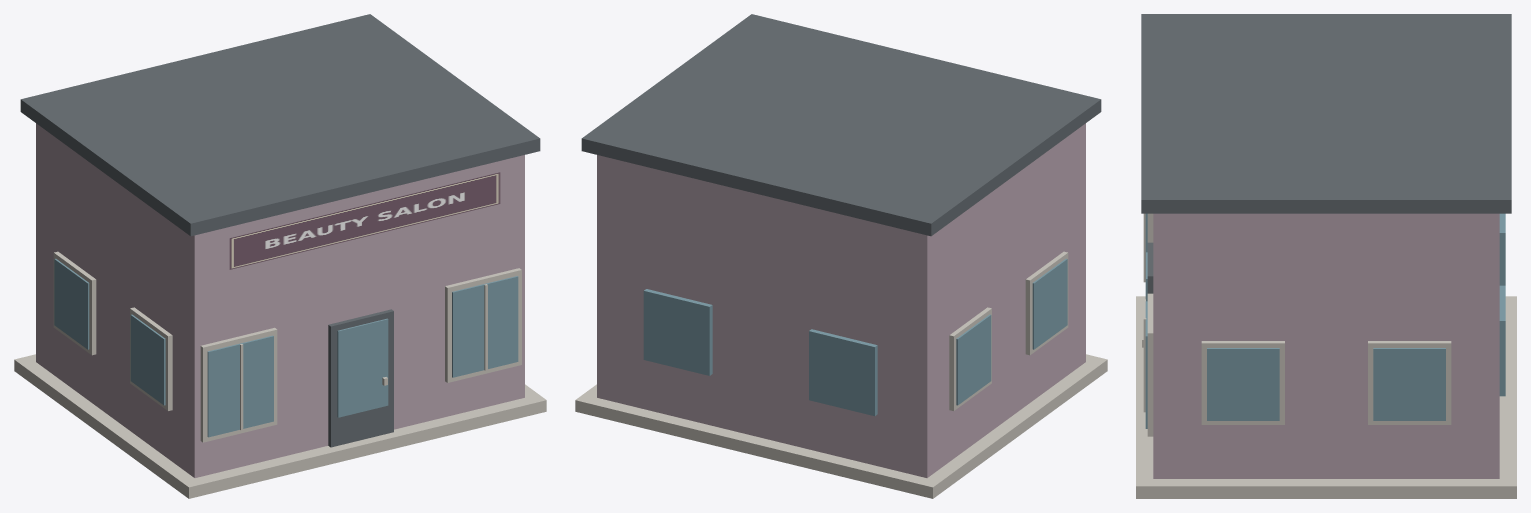
Rendered from beauty_salon.glb.
The picture shows the model from 3 angles, left to right: view 1: azimuth 30°, elevation 25°; view 2: azimuth 150°, elevation 25°; view 3: azimuth 270°, elevation 25°; orthographic projection. The views are drawn at different scales.
Parts seen in each view (by area): view 1: world; view 2: world; view 3: world.
Boxes of the visible parts, left/top/right/bottom form: world: left=14, top=14, right=546, bottom=498; world: left=575, top=14, right=1107, bottom=498; world: left=1136, top=14, right=1516, bottom=498.
Bounding box in the file's own units: 6.5 × 4.73 × 5.5.
Materials: 2 (1 with a texture image).
